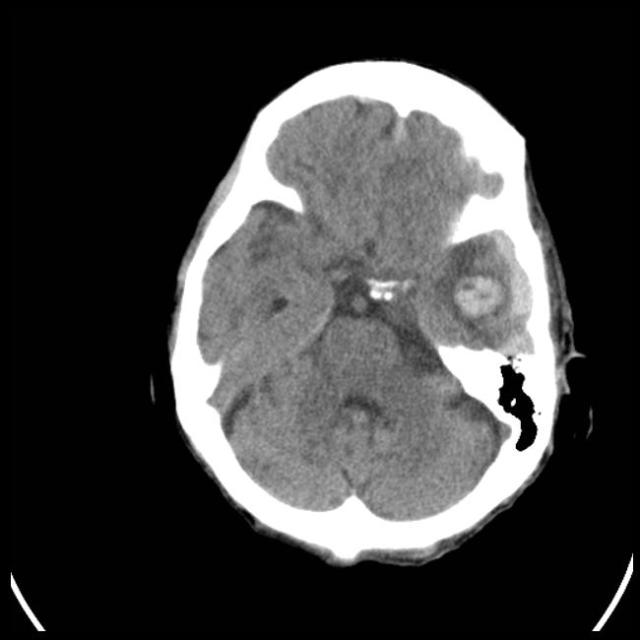lesion: (163, 59, 584, 568)
